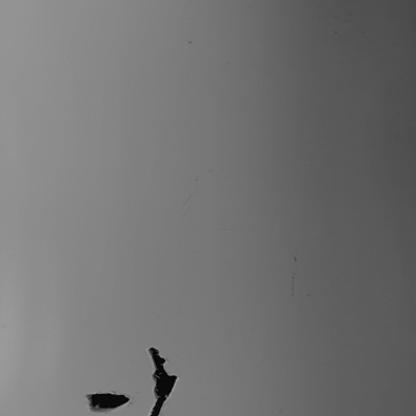kongdong: (145, 345, 182, 416), (86, 392, 132, 413)
